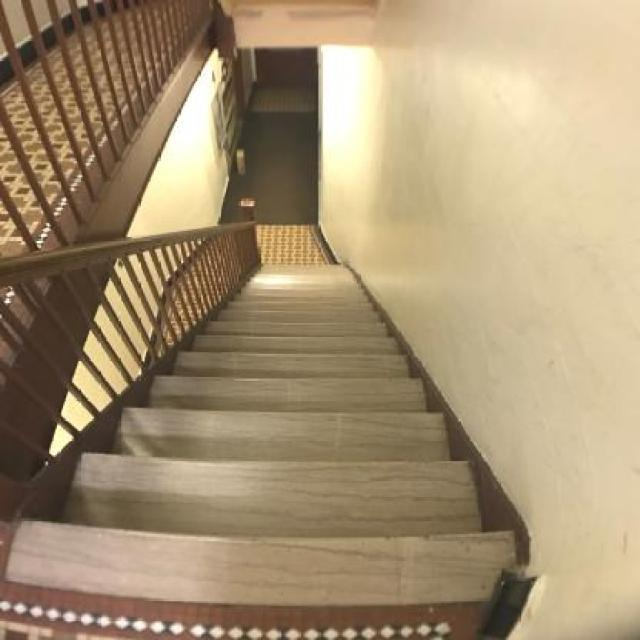stair: (2, 166, 536, 612)
